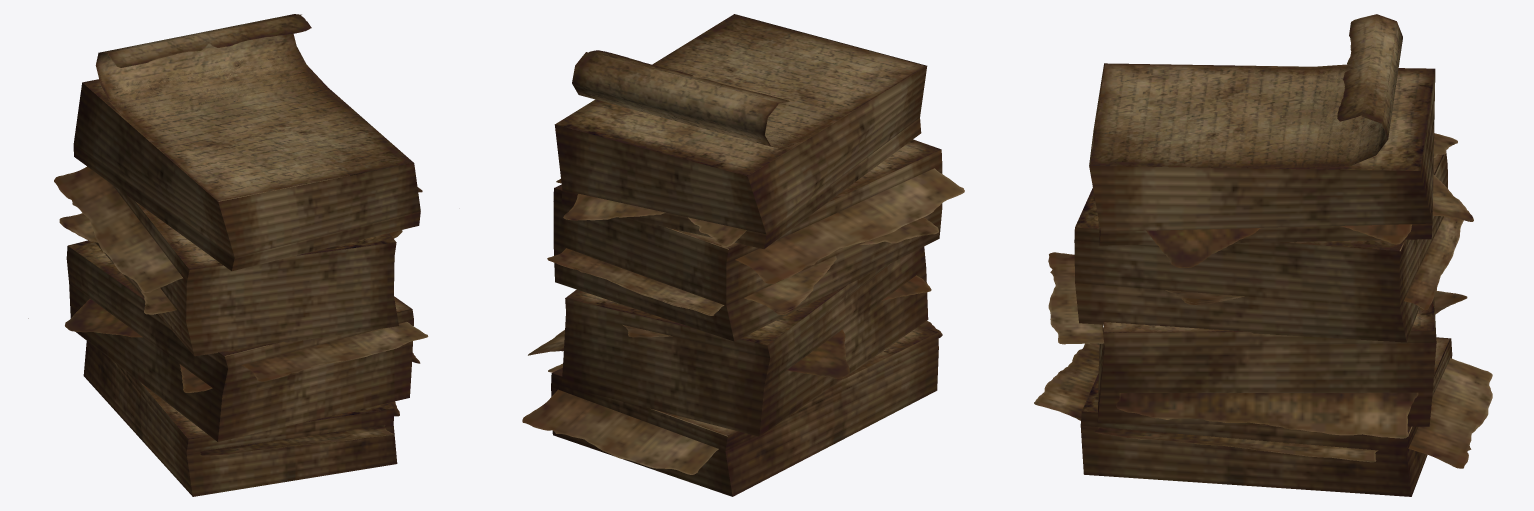
The model's file is paperpile01.dae.
The picture shows the model from 3 angles, left to right: view 1: azimuth 30°, elevation 25°; view 2: azimuth 150°, elevation 25°; view 3: azimuth 270°, elevation 25°; orthographic projection. The views are drawn at different scales.
Visible parts, largest first — view 1: polySurface38, polySurface39; view 2: polySurface38, polySurface39; view 3: polySurface38, polySurface39.
Boxes of the visible parts, x1,y1,x2,y2 form: polySurface38: (28,14,428,496); polySurface39: (54,14,427,455); polySurface38: (522,14,964,496); polySurface39: (523,50,962,474); polySurface38: (1034,14,1492,496); polySurface39: (1034,14,1491,468).
Bounding box in the file's own units: 0.3601 × 0.3523 × 0.4204.
